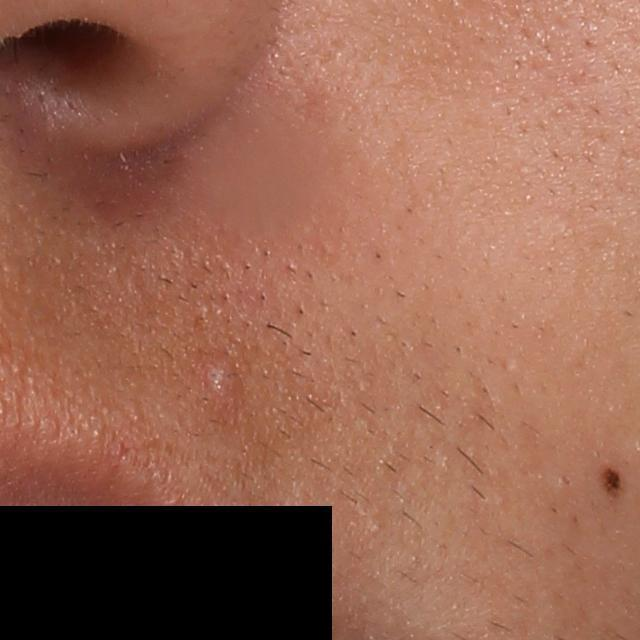nevus: (594, 460, 622, 499)
papule: (204, 355, 240, 401)
